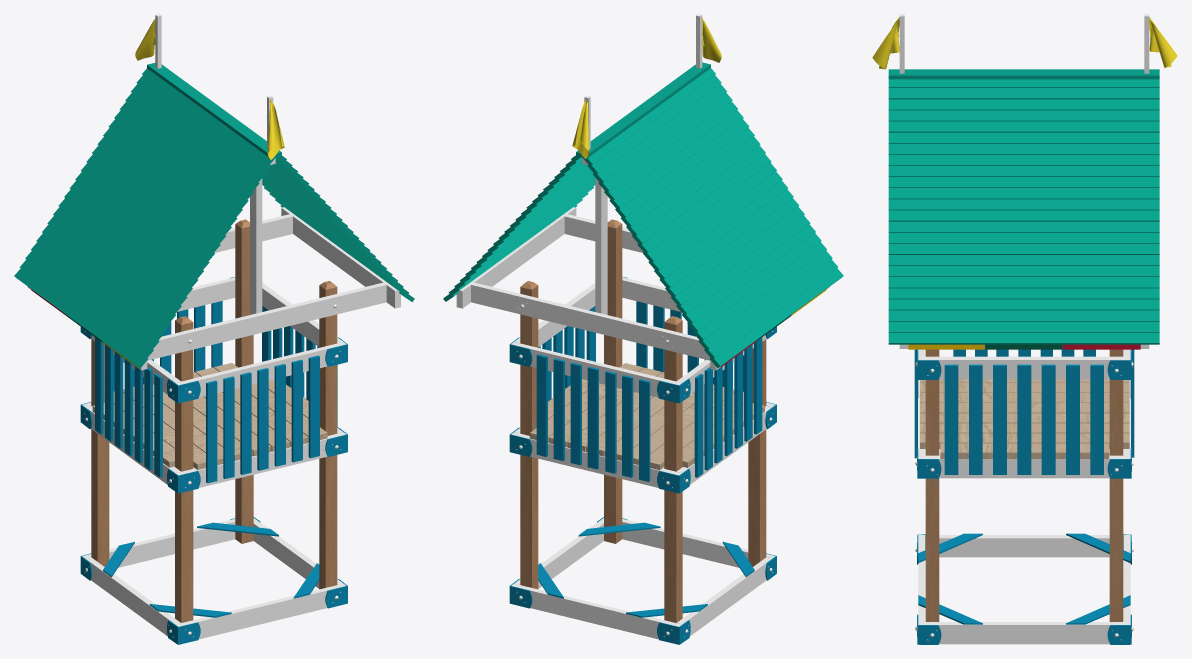
3 views of the same model, side by side, from view 1: azimuth 30°, elevation 25°; view 2: azimuth 150°, elevation 25°; view 3: azimuth 270°, elevation 25° (orthographic). The views are drawn at different scales.
Parts seen in each view (by area): view 1: roof_poly, Cube833, Watch_tower_base_middle002, Watch_tower_base_bottom002, Cube833_1.001, Cube833_1, Watch_tower_corner_Top002,_colorize_, Watch_tower_joint002,_colorize_, roof_poly_1, Watch_tower_corner_Bottom002,_colorize_, fence,_colorize_, fence,_colorize__2 (+13 smaller); view 2: roof_poly, Cube833, Watch_tower_base_middle002, Watch_tower_base_bottom002, Cube833_1.001, Cube833_1, Watch_tower_corner_Top002,_colorize_, Watch_tower_joint002,_colorize_, roof_poly_1, Watch_tower_corner_Bottom002,_colorize_, fence,_colorize__15, fence,_colorize__13 (+13 smaller); view 3: roof_poly, Watch_tower_base_bottom002, Cube833_1, Cube833, Watch_tower_base_middle002, roof_poly_1, Cube833_1.001, Watch_tower_corner_Top002,_colorize_, Watch_tower_joint002,_colorize_, fence,_colorize__24, fence,_colorize__9, fence,_colorize__6 (+8 smaller).
Part boxes in pixels (bbox=[...]): roof_poly: bbox=[14, 68, 414, 368]; Cube833: bbox=[27, 14, 400, 488]; Watch_tower_base_middle002: bbox=[91, 405, 337, 622]; Watch_tower_base_bottom002: bbox=[82, 518, 346, 639]; Cube833_1.001: bbox=[91, 219, 337, 470]; Cube833_1: bbox=[92, 363, 327, 469]; Watch_tower_corner_Top002,_colorize_: bbox=[80, 277, 347, 493]; Watch_tower_joint002,_colorize_: bbox=[103, 522, 319, 617]; roof_poly_1: bbox=[147, 63, 281, 157]; Watch_tower_corner_Bottom002,_colorize_: bbox=[80, 517, 347, 644]; fence,_colorize_: bbox=[206, 380, 217, 483]; fence,_colorize__2: bbox=[240, 372, 251, 474]; roof_poly: bbox=[443, 68, 843, 367]; Cube833: bbox=[456, 14, 829, 488]; Watch_tower_base_middle002: bbox=[520, 405, 766, 622]; Watch_tower_base_bottom002: bbox=[511, 518, 775, 639]; Cube833_1.001: bbox=[520, 219, 766, 470]; Cube833_1: bbox=[529, 363, 764, 470]; Watch_tower_corner_Top002,_colorize_: bbox=[509, 276, 776, 493]; Watch_tower_joint002,_colorize_: bbox=[538, 522, 754, 617]; roof_poly_1: bbox=[576, 62, 710, 157]; Watch_tower_corner_Bottom002,_colorize_: bbox=[509, 517, 776, 644]; fence,_colorize__15: bbox=[605, 371, 616, 473]; fence,_colorize__13: bbox=[553, 358, 564, 460]; roof_poly: bbox=[888, 79, 1159, 344]; Watch_tower_base_bottom002: bbox=[915, 535, 1133, 644]; Cube833_1: bbox=[920, 379, 1129, 458]; Cube833: bbox=[899, 14, 1149, 478]; Watch_tower_base_middle002: bbox=[925, 455, 1123, 621]; roof_poly_1: bbox=[888, 69, 1159, 79]; Cube833_1.001: bbox=[925, 349, 1123, 454]; Watch_tower_corner_Top002,_colorize_: bbox=[917, 349, 1131, 478]; Watch_tower_joint002,_colorize_: bbox=[918, 533, 1130, 624]; fence,_colorize__24: bbox=[1017, 364, 1031, 474]; fence,_colorize__9: bbox=[1041, 364, 1055, 474]; fence,_colorize__6: bbox=[944, 364, 958, 474].
Size of the model in its own units: 2.52 by 4.63 by 2.19.
9 materials, 3 textured.
